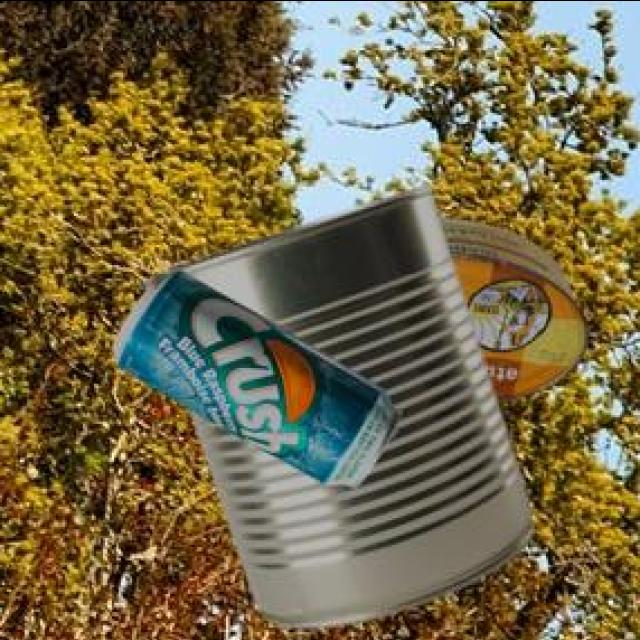logam: (164, 182, 536, 623), (117, 267, 404, 484), (442, 214, 592, 397)
